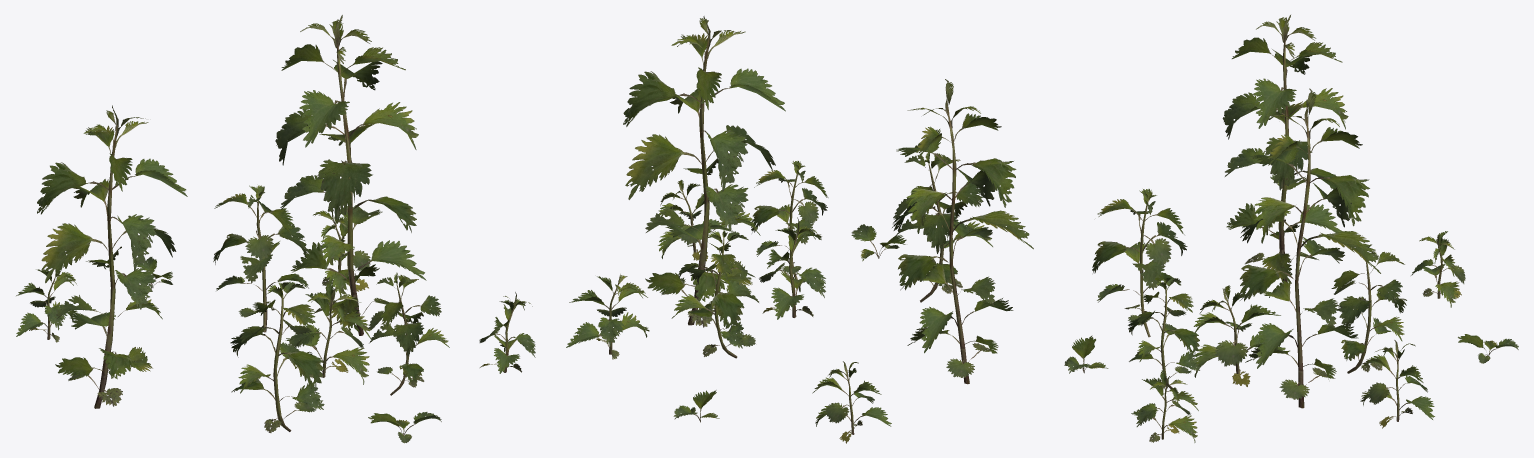
Rendered from Scan_Nettles_A.fbx.
3 views of the same model, side by side, from view 1: azimuth 30°, elevation 25°; view 2: azimuth 150°, elevation 25°; view 3: azimuth 270°, elevation 25° (orthographic). The views are drawn at different scales.
Parts seen in each view (by area): view 1: Scan_Nettles_A_LOD0; view 2: Scan_Nettles_A_LOD0; view 3: Scan_Nettles_A_LOD0.
Boxes of the visible parts, <box> form: Scan_Nettles_A_LOD0: <box>16,15,535,443</box>; Scan_Nettles_A_LOD0: <box>566,16,1033,443</box>; Scan_Nettles_A_LOD0: <box>1064,15,1518,442</box>.
Size of what is drawn, in the model's own units: 0.9196 by 0.6586 by 0.9014.
